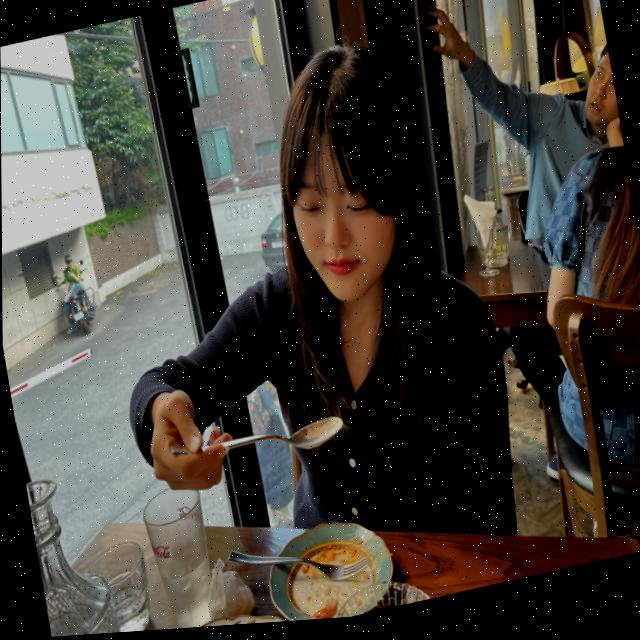eating-person: (59, 13, 549, 637)
